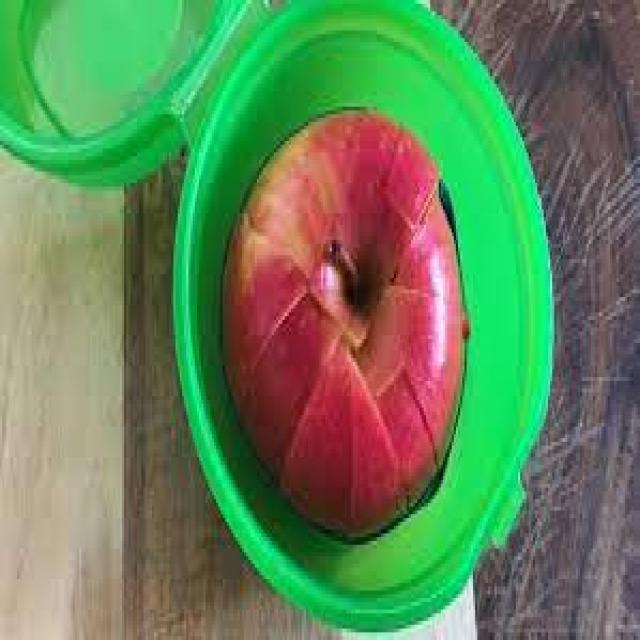Apple: (221, 108, 466, 541)
